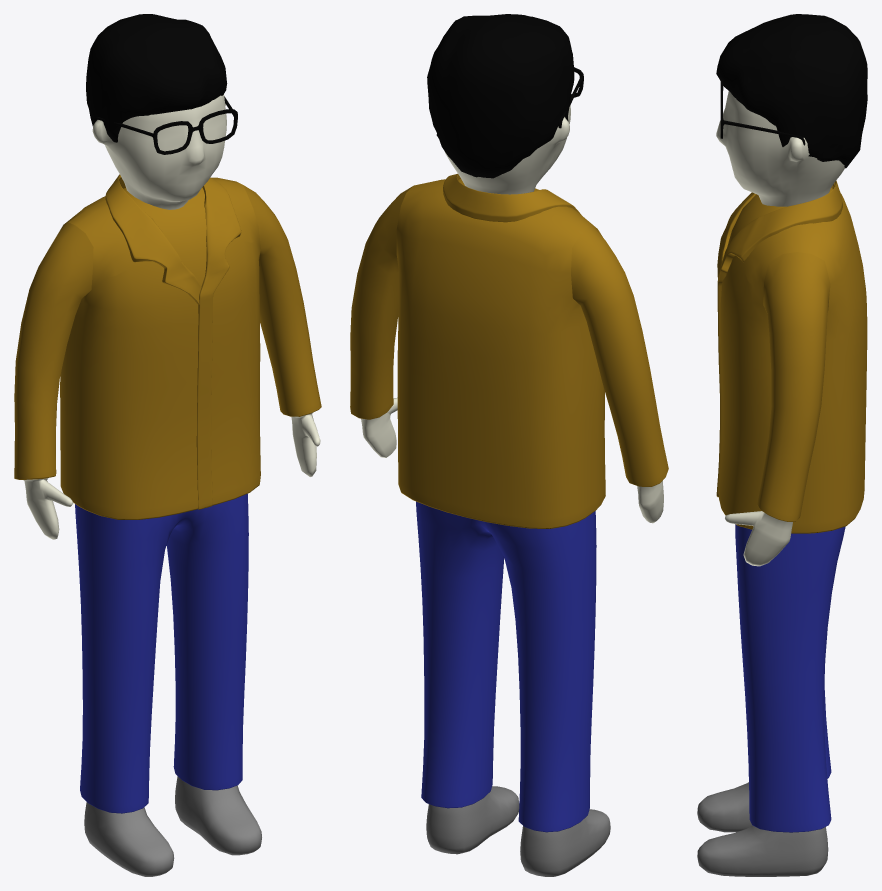
The model's file is man.fbx.
3 views of the same model, side by side, from view 1: azimuth 30°, elevation 25°; view 2: azimuth 150°, elevation 25°; view 3: azimuth 270°, elevation 25° (orthographic). The views are drawn at different scales.
Visible parts, largest first — view 1: Body, pCube24, pCube25, R_Hand, pCube22, pCube23, L_Hand, pCube8, pCube12, pCube16, pTorus1; view 2: Body, pCube24, pCube25, pCube22, R_Hand, L_Hand, pCube12, pCube16, pCube23, pCube8; view 3: Body, pCube25, L_Hand, pCube22, pCube8, pCube12, pCube23, pCube16, pTorus1.
Part boxes in pixels (x1=…): Body: x1=60, y1=177, x2=260, y2=519; pCube24: x1=75, y1=504, x2=186, y2=813; pCube25: x1=166, y1=494, x2=248, y2=790; R_Hand: x1=14, y1=222, x2=93, y2=539; pCube22: x1=86, y1=14, x2=227, y2=142; pCube23: x1=105, y1=174, x2=241, y2=509; L_Hand: x1=243, y1=185, x2=321, y2=476; pCube8: x1=92, y1=94, x2=226, y2=209; pCube12: x1=175, y1=776, x2=261, y2=855; pCube16: x1=84, y1=802, x2=174, y2=876; pTorus1: x1=93, y1=96, x2=237, y2=154; Body: x1=396, y1=179, x2=605, y2=528; pCube24: x1=479, y1=511, x2=596, y2=832; pCube25: x1=416, y1=501, x2=504, y2=808; pCube22: x1=427, y1=14, x2=574, y2=178; R_Hand: x1=571, y1=225, x2=668, y2=523; L_Hand: x1=350, y1=186, x2=412, y2=457; pCube12: x1=426, y1=786, x2=519, y2=854; pCube16: x1=520, y1=809, x2=610, y2=876; pCube23: x1=443, y1=173, x2=581, y2=222; pCube8: x1=444, y1=105, x2=570, y2=194; Body: x1=719, y1=187, x2=867, y2=533; pCube25: x1=735, y1=524, x2=845, y2=832; L_Hand: x1=725, y1=252, x2=830, y2=566; pCube22: x1=716, y1=14, x2=867, y2=168; pCube8: x1=716, y1=91, x2=844, y2=206; pCube12: x1=697, y1=825, x2=828, y2=876; pCube23: x1=716, y1=180, x2=842, y2=497; pCube16: x1=697, y1=782, x2=751, y2=832; pTorus1: x1=720, y1=82, x2=805, y2=145.
Bounding box in the file's own units: 170 × 436 × 82.18.
